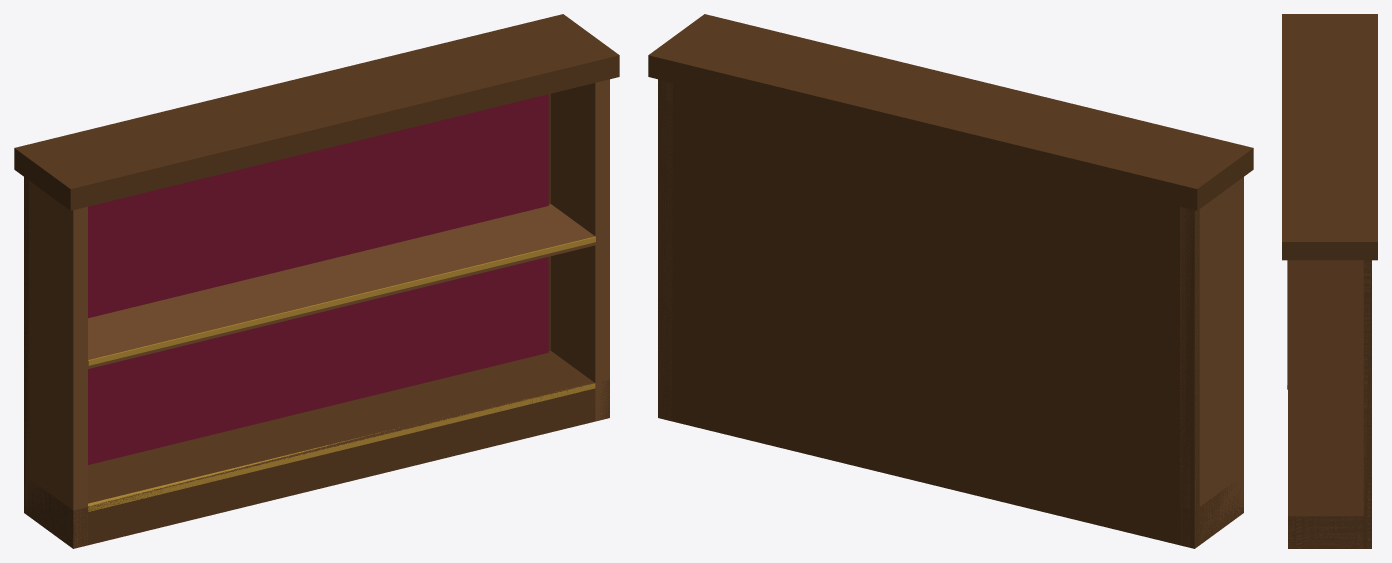
The model's file is ncb-trophy-cabinet.glb.
3 renders of one model, left to right at view 1: azimuth 30°, elevation 25°; view 2: azimuth 150°, elevation 25°; view 3: azimuth 270°, elevation 25°, orthographic. The views are drawn at different scales.
Visible parts, largest first — view 1: box-prop; view 2: box-prop; view 3: box-prop.
Part boxes in pixels (bbox=[...]): box-prop: bbox=[14, 14, 619, 548]; box-prop: bbox=[648, 14, 1253, 548]; box-prop: bbox=[1282, 14, 1377, 548].
Size of the model in its own units: 4.5 by 2.85 by 0.8.
